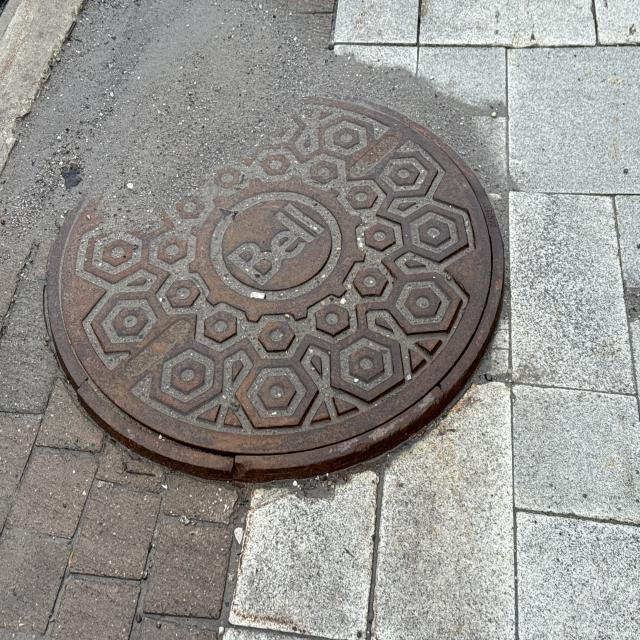Manhole: (51, 90, 510, 478)
